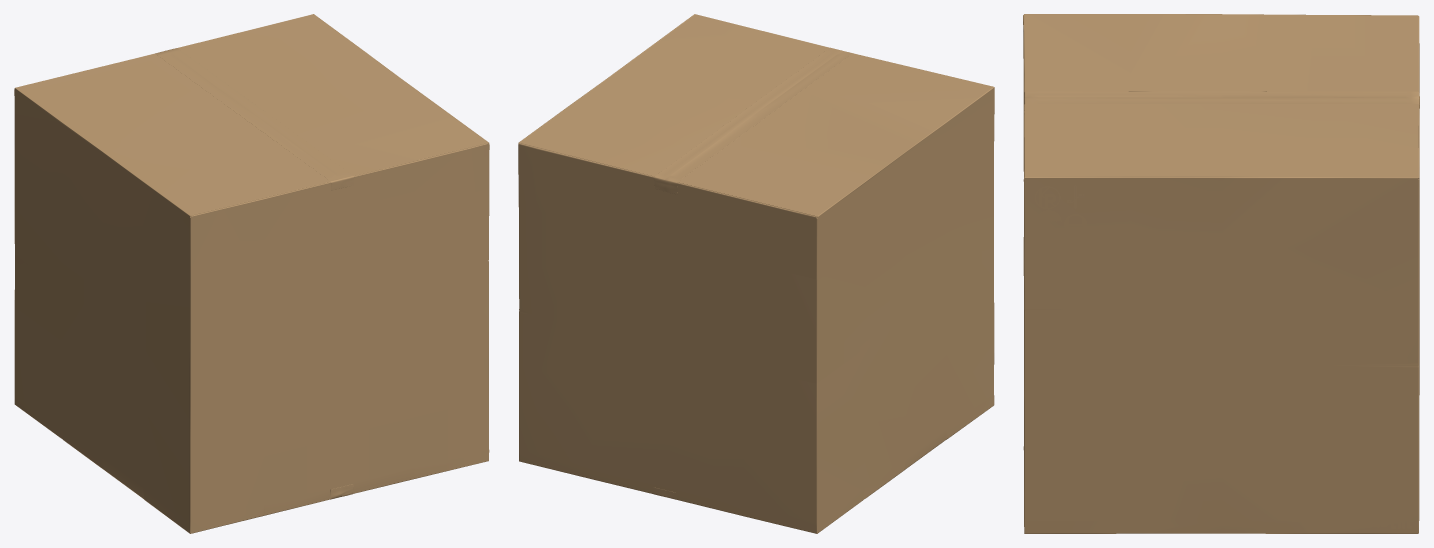
File: box_corrugated_white_a11.glb
The picture shows the model from 3 angles, left to right: view 1: azimuth 30°, elevation 25°; view 2: azimuth 150°, elevation 25°; view 3: azimuth 270°, elevation 25°; orthographic projection. The views are drawn at different scales.
Size of the model in its own units: 0.4594 by 0.4667 by 0.4695.
